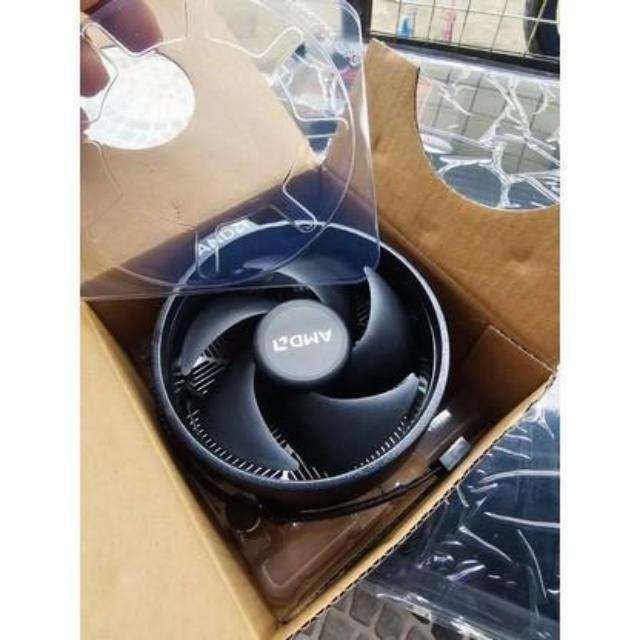CPU_Fan: (150, 214, 456, 511)
